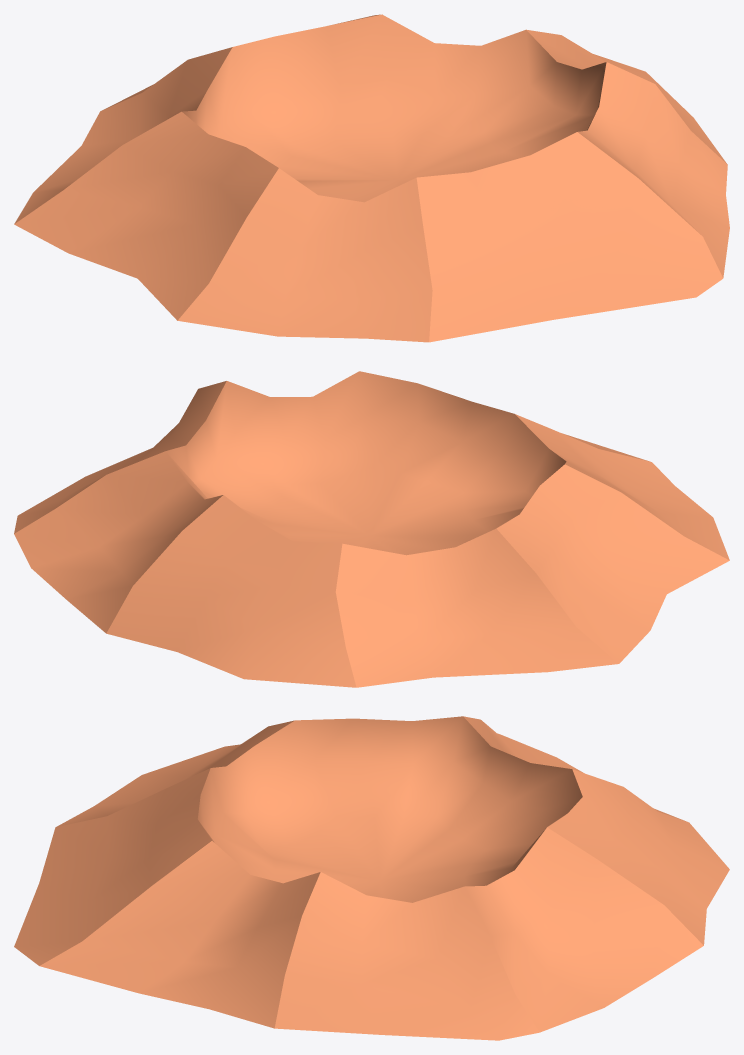
File: Crater_1.fbx
3 renders of one model, top to bottom at view 1: azimuth 30°, elevation 25°; view 2: azimuth 150°, elevation 25°; view 3: azimuth 270°, elevation 25°, orthographic. The views are drawn at different scales.
Visible parts, largest first — view 1: Crater_1; view 2: Crater_1; view 3: Crater_1.
Part boxes in pixels (x1=…): Crater_1: x1=14, y1=14, x2=729, y2=342; Crater_1: x1=14, y1=371, x2=729, y2=687; Crater_1: x1=14, y1=716, x2=729, y2=1040.
Bounding box in the file's own units: 199 × 33.11 × 197.
